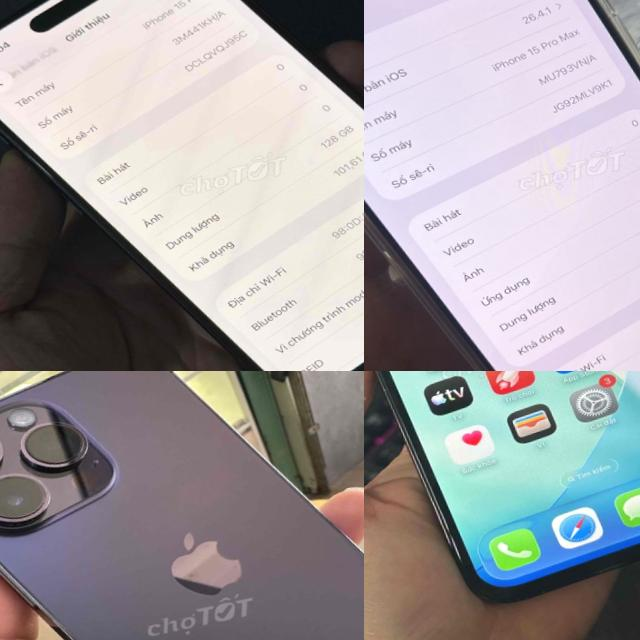gen_12_13: (364, 371, 640, 634)
gen_14: (0, 371, 364, 640)
gen_15: (0, 0, 364, 371), (364, 0, 640, 371)
